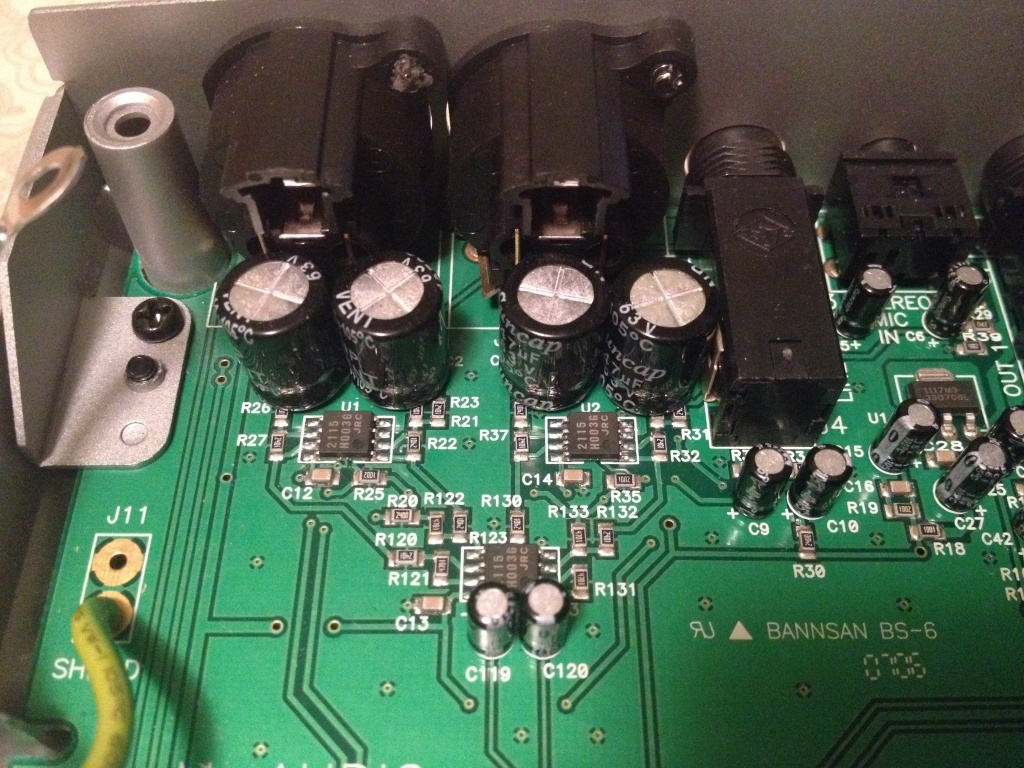capacitor: (208, 243, 336, 426), (336, 250, 452, 416), (498, 253, 605, 414), (622, 265, 712, 408), (926, 253, 990, 365), (872, 397, 937, 485), (798, 440, 853, 526), (743, 444, 784, 531)
